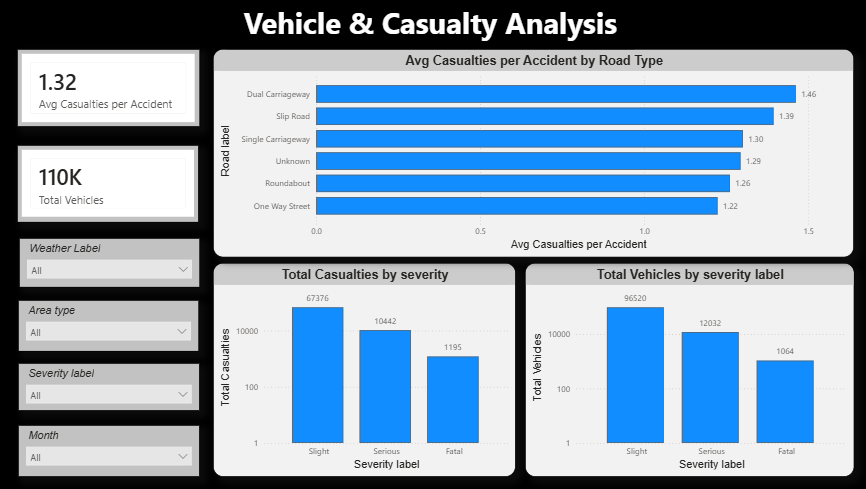

Layout of this report page (visuals, bound fields, positions):
{"tool":"powerbi","page":{"name":"Vehicle & Casualty Analysis","canvas":[1280,720],"ordinal":4},"visuals":[{"type":"clusteredColumnChart","title":"Total Casualties by severity ","fields":{"Category":["Accident Data Analysis.severity_label"],"Y":["Accident Data Analysis.Total Casualties"]},"box":[320,388.3,443.3,313.3],"z":0},{"type":"clusteredColumnChart","title":"Total Vehicles by severity label","fields":{"Category":["Accident Data Analysis.severity_label"],"Y":["Accident Data Analysis.Total Vehicles"]},"box":[776.7,388.3,481.7,313.3],"z":1000},{"type":"clusteredBarChart","title":"Avg Casualties per Accident by Road Type","fields":{"Category":["Accident Data Analysis.Road_Type-Label"],"Y":["Accident Data Analysis.Avg Casualties per Accident"]},"box":[320,75,938.3,305],"z":2000},{"type":"cardVisual","fields":{"Data":["Accident Data Analysis.Total Vehicles"]},"box":[33.7,215.1,266.3,112.7],"z":3000},{"type":"cardVisual","fields":{"Data":["Accident Data Analysis.Avg Casualties per Accident"]},"box":[33.7,74.6,267.8,114.1],"z":4000},{"type":"slicer","fields":{"Values":["Accident Data Analysis.severity_label"]},"box":[35.1,534.1,266.3,70.2],"z":5000},{"type":"slicer","fields":{"Values":["Accident Data Analysis.Area_type"]},"box":[35.1,442,264.9,74.6],"z":6000},{"type":"slicer","fields":{"Values":["Accident Data Analysis.Weather_Label"]},"box":[36.7,351.7,265,71.7],"z":7000},{"type":"slicer","fields":{"Values":["Accident Data Analysis.Date.Variation.Date Hierarchy.Month"]},"box":[35.1,624.9,266.3,76.1],"z":8000},{"type":"textbox","box":[340,0,598.3,75],"z":9000}]}

Visuals, with their boxes in screenshot pixels (x1, y1, x2, y2), scaled from the page's 1280x720 canvas onto the 866x489 screenshot:
"Total Casualties by severity " clusteredColumnChart: bbox=(216, 264, 516, 477)
"Total Vehicles by severity label" clusteredColumnChart: bbox=(525, 264, 851, 477)
"Avg Casualties per Accident by Road Type" clusteredBarChart: bbox=(216, 51, 851, 258)
cardVisual - Accident Data Analysis.Total Vehicles: bbox=(23, 146, 203, 223)
cardVisual - Accident Data Analysis.Avg Casualties per Accident: bbox=(23, 51, 204, 128)
slicer - Accident Data Analysis.severity_label: bbox=(24, 363, 204, 410)
slicer - Accident Data Analysis.Area_type: bbox=(24, 300, 203, 351)
slicer - Accident Data Analysis.Weather_Label: bbox=(25, 239, 204, 288)
slicer - Accident Data Analysis.Date.Variation.Date Hierarchy.Month: bbox=(24, 424, 204, 476)
textbox: bbox=(230, 0, 635, 51)
